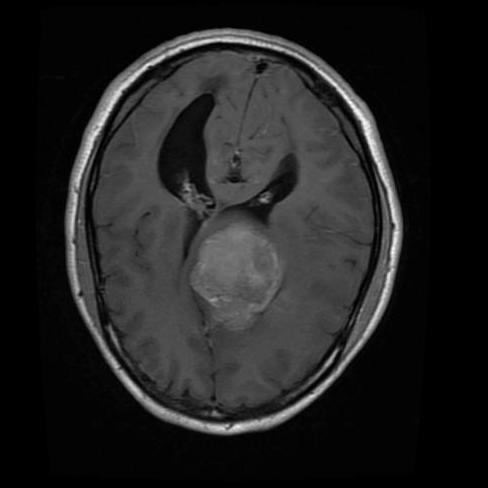Tumour-Meningioma: (172, 195, 303, 345)
